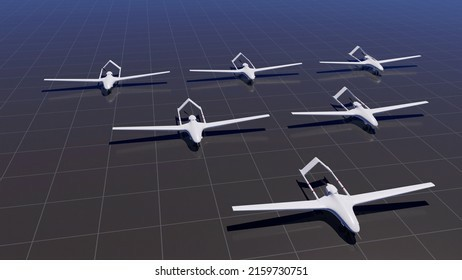maybay_khongnguoilai: (230, 157, 438, 240), (114, 104, 271, 150), (290, 93, 433, 132), (39, 57, 171, 98), (187, 50, 300, 87), (321, 42, 427, 79)
